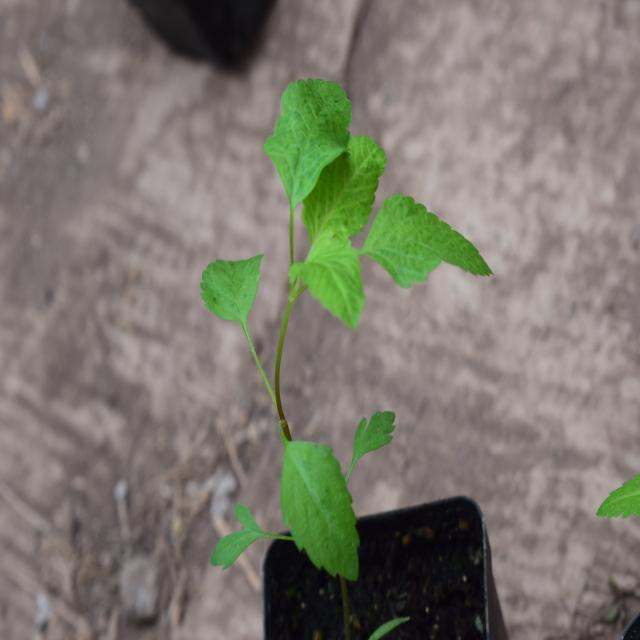Bidens pilosa: (188, 55, 494, 579)
